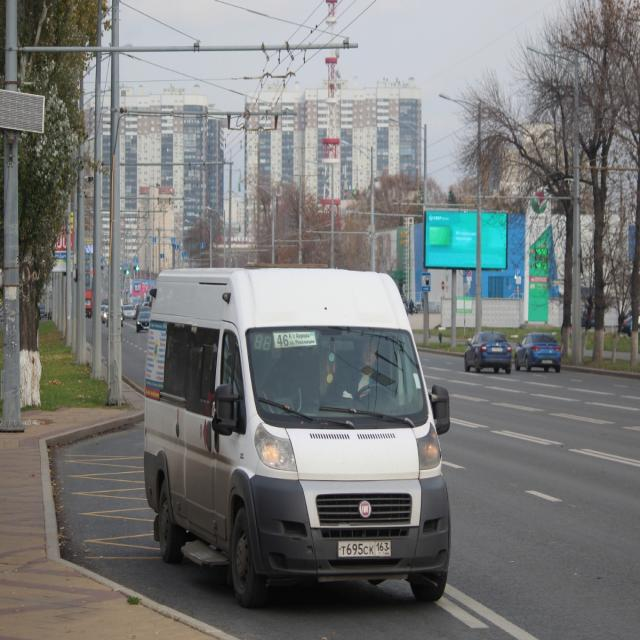number-of-bus: (277, 334, 290, 349)
